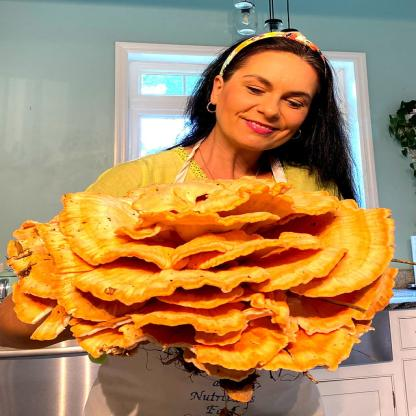CoW: (6, 174, 400, 405)
